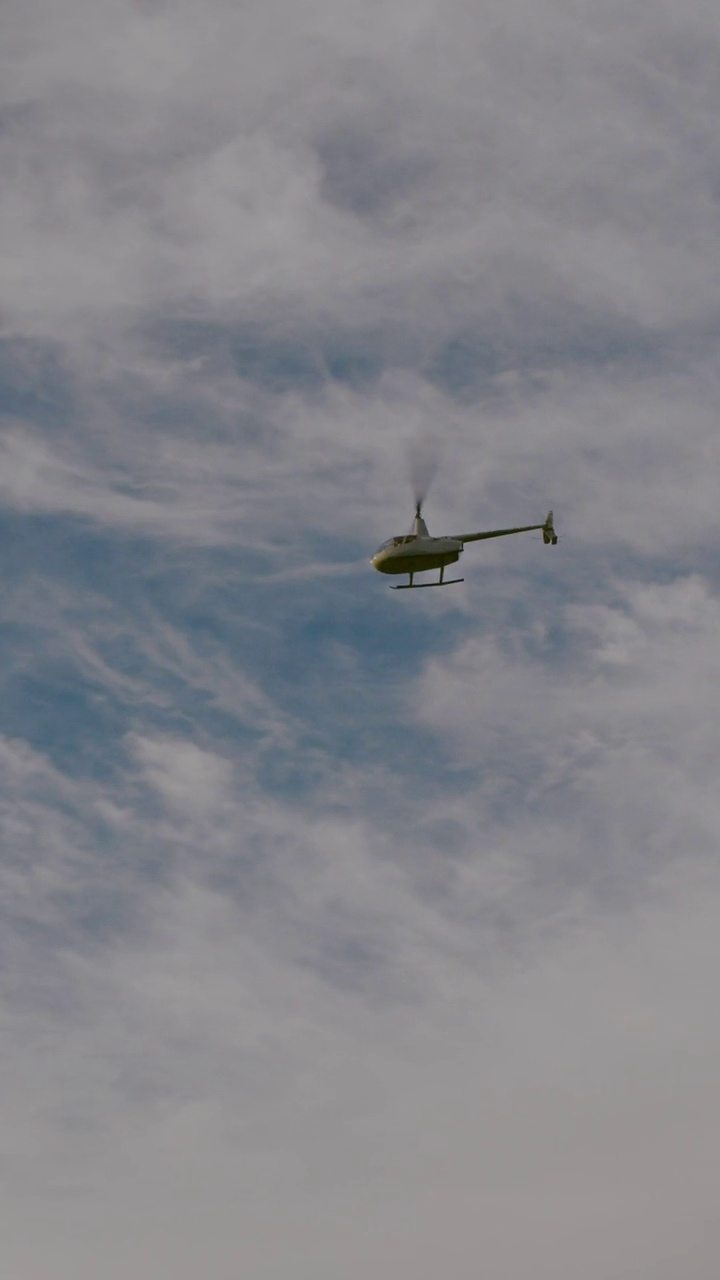heli: (370, 439, 559, 594)
